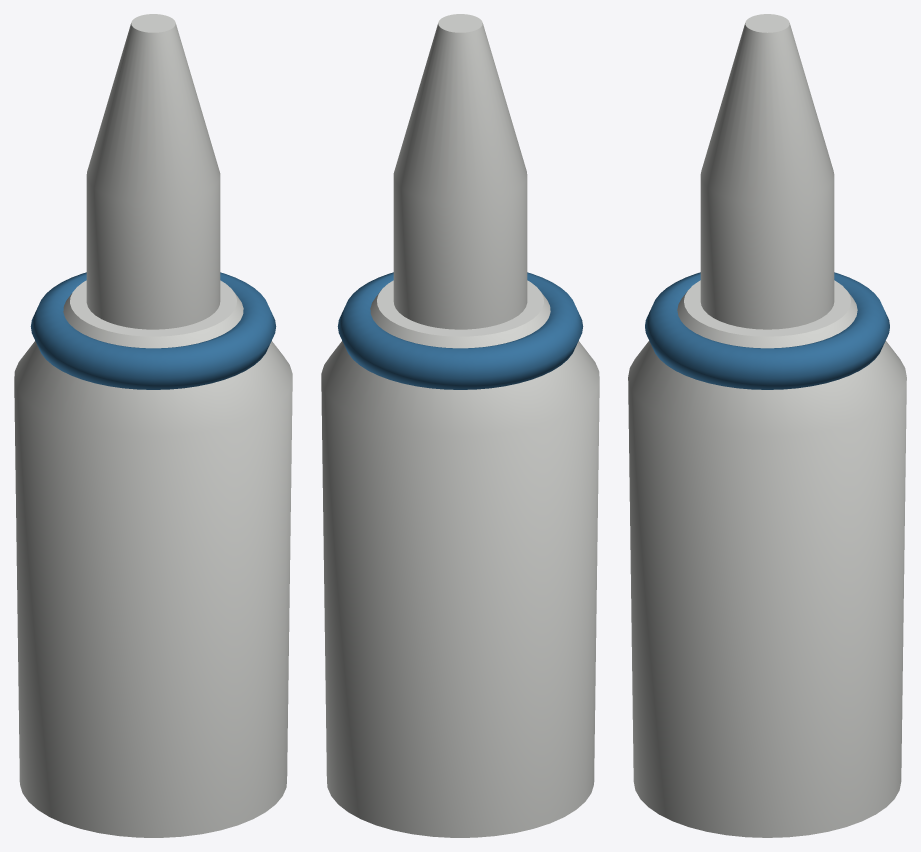
The model's file is fencing-club-and-tournament-piste-glue-applicator-a5da2b08__31240.glb.
3 renders of one model, left to right at view 1: azimuth 30°, elevation 25°; view 2: azimuth 150°, elevation 25°; view 3: azimuth 270°, elevation 25°, orthographic.
Visible parts, largest first — view 1: glue-applicator; view 2: glue-applicator; view 3: glue-applicator.
Boxes of the visible parts, x1,y1,x2,y2 form: glue-applicator: [14, 14, 292, 837]; glue-applicator: [321, 14, 599, 837]; glue-applicator: [628, 14, 906, 837].
Size of the model in its own units: 0.05 by 0.15 by 0.05.
